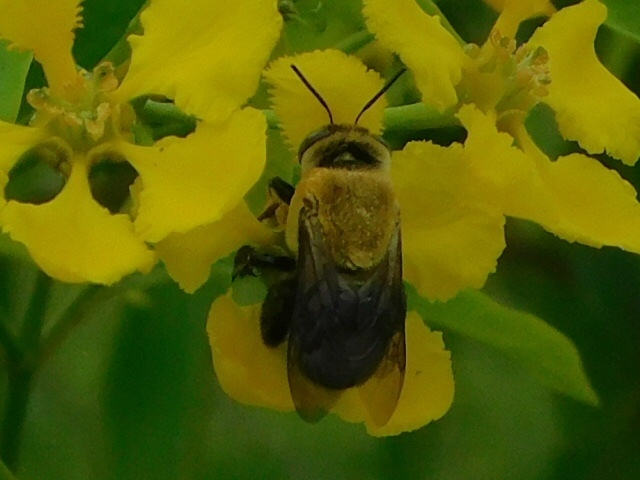not_bumblebee: (259, 63, 409, 429)
